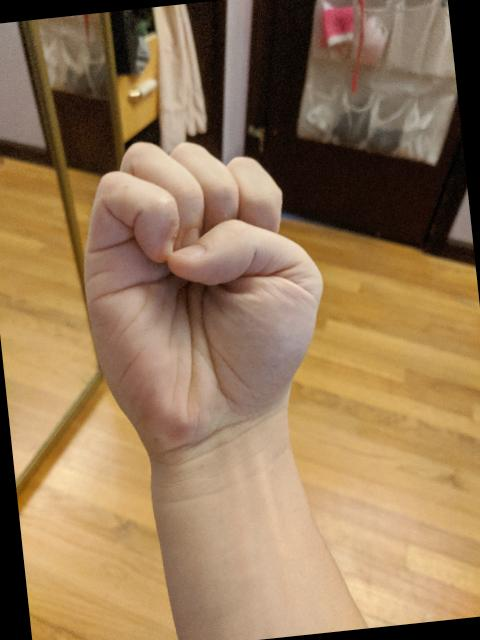E: (62, 120, 346, 472)
